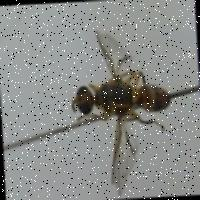Oriental-fruit-fly: (60, 17, 182, 192)
